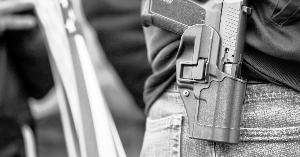handgun: (138, 0, 256, 151)
